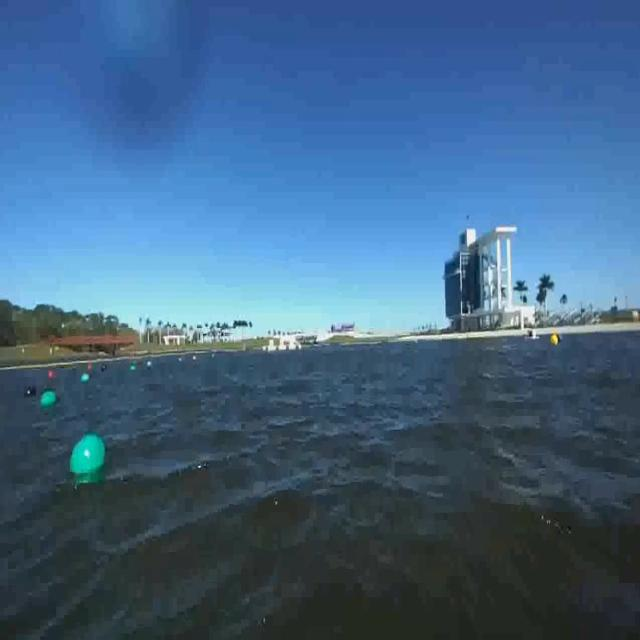black-buoy: (26, 387, 34, 397)
green-buoy: (72, 434, 110, 480), (41, 390, 57, 408), (80, 372, 90, 384)
yellow-buoy: (552, 334, 560, 348)
